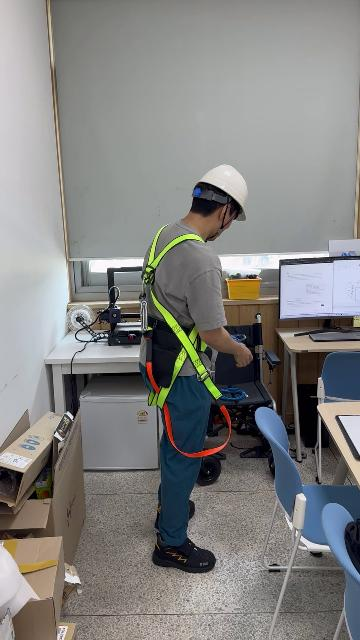helmet_worn: (192, 164, 250, 224)
shoe_worn: (152, 533, 215, 573)
vest_worn: (137, 231, 235, 447)
